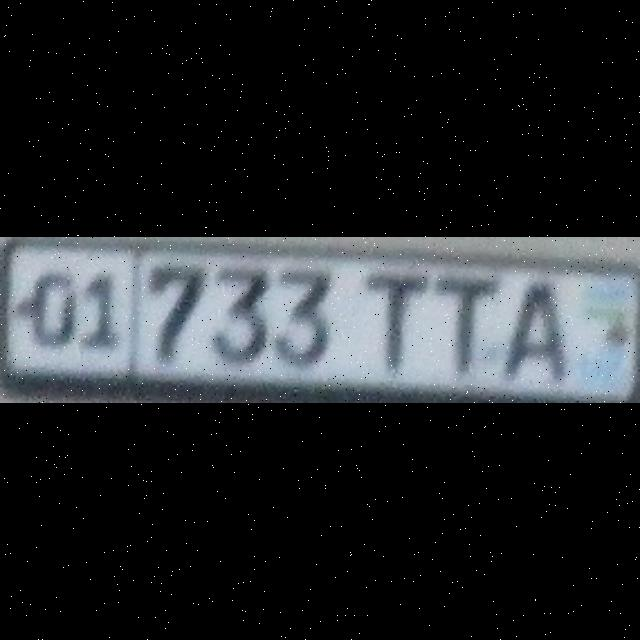0: (32, 271, 72, 345)
1: (81, 273, 117, 347)
3: (211, 266, 265, 362), (274, 266, 326, 362)
7: (146, 264, 202, 360)
A: (501, 280, 564, 378)
T: (434, 273, 496, 372), (364, 270, 426, 368)
